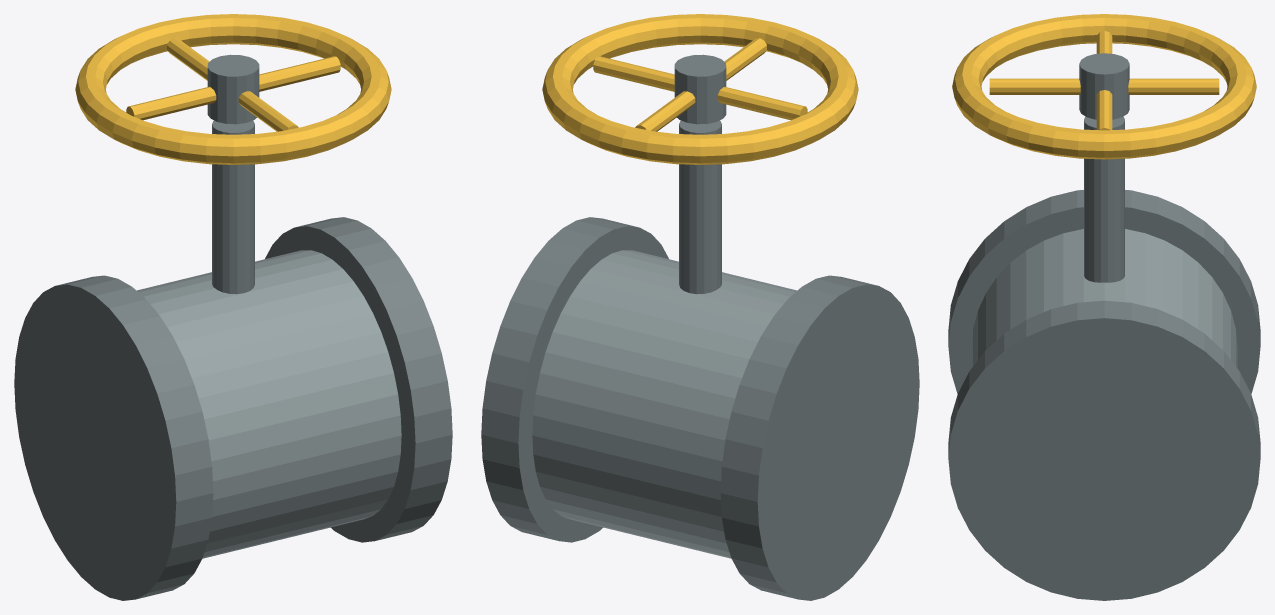
Rendered from PIPE-VALVE-MODULE.glb.
3 renders of one model, left to right at view 1: azimuth 30°, elevation 25°; view 2: azimuth 150°, elevation 25°; view 3: azimuth 270°, elevation 25°, orthographic. The views are drawn at different scales.
Visible parts, largest first — view 1: PIPE-VALVE_BODY, PIPE-VALVE_FLANGE_A, PIPE-VALVE_HANDWHEEL, PIPE-VALVE_FLANGE_B, PIPE-VALVE_STEM, PIPE-VALVE_HANDWHEEL_HUB, PIPE-VALVE_SPOKE_180, PIPE-VALVE_SPOKE_0, PIPE-VALVE_SPOKE_270, PIPE-VALVE_SPOKE_90; view 2: PIPE-VALVE_BODY, PIPE-VALVE_FLANGE_A, PIPE-VALVE_HANDWHEEL, PIPE-VALVE_FLANGE_B, PIPE-VALVE_STEM, PIPE-VALVE_HANDWHEEL_HUB, PIPE-VALVE_SPOKE_180, PIPE-VALVE_SPOKE_0, PIPE-VALVE_SPOKE_90, PIPE-VALVE_SPOKE_270; view 3: PIPE-VALVE_FLANGE_B, PIPE-VALVE_HANDWHEEL, PIPE-VALVE_BODY, PIPE-VALVE_FLANGE_A, PIPE-VALVE_STEM, PIPE-VALVE_HANDWHEEL_HUB, PIPE-VALVE_SPOKE_90, PIPE-VALVE_SPOKE_270, PIPE-VALVE_SPOKE_0.
Boxes of the visible parts, x1=… form: PIPE-VALVE_BODY: x1=136, y1=250, x2=401, y2=558; PIPE-VALVE_FLANGE_A: x1=14, y1=275, x2=213, y2=600; PIPE-VALVE_HANDWHEEL: x1=75, y1=14, x2=391, y2=164; PIPE-VALVE_FLANGE_B: x1=265, y1=217, x2=452, y2=542; PIPE-VALVE_STEM: x1=212, y1=120, x2=254, y2=294; PIPE-VALVE_HANDWHEEL_HUB: x1=207, y1=54, x2=259, y2=124; PIPE-VALVE_SPOKE_180: x1=126, y1=87, x2=216, y2=120; PIPE-VALVE_SPOKE_0: x1=259, y1=56, x2=340, y2=91; PIPE-VALVE_SPOKE_270: x1=238, y1=91, x2=298, y2=131; PIPE-VALVE_SPOKE_90: x1=167, y1=38, x2=209, y2=80; PIPE-VALVE_BODY: x1=532, y1=250, x2=797, y2=558; PIPE-VALVE_FLANGE_A: x1=720, y1=275, x2=919, y2=600; PIPE-VALVE_HANDWHEEL: x1=542, y1=14, x2=858, y2=164; PIPE-VALVE_FLANGE_B: x1=481, y1=217, x2=668, y2=542; PIPE-VALVE_STEM: x1=679, y1=120, x2=721, y2=294; PIPE-VALVE_HANDWHEEL_HUB: x1=674, y1=54, x2=726, y2=124; PIPE-VALVE_SPOKE_180: x1=717, y1=87, x2=807, y2=120; PIPE-VALVE_SPOKE_0: x1=593, y1=56, x2=674, y2=91; PIPE-VALVE_SPOKE_90: x1=635, y1=91, x2=695, y2=131; PIPE-VALVE_SPOKE_270: x1=724, y1=38, x2=766, y2=80; PIPE-VALVE_FLANGE_B: x1=948, y1=300, x2=1260, y2=600; PIPE-VALVE_HANDWHEEL: x1=952, y1=14, x2=1256, y2=159; PIPE-VALVE_BODY: x1=971, y1=229, x2=1237, y2=368; PIPE-VALVE_FLANGE_A: x1=948, y1=190, x2=1260, y2=393; PIPE-VALVE_STEM: x1=1084, y1=116, x2=1124, y2=282; PIPE-VALVE_HANDWHEEL_HUB: x1=1079, y1=53, x2=1129, y2=119; PIPE-VALVE_SPOKE_90: x1=1128, y1=78, x2=1219, y2=94; PIPE-VALVE_SPOKE_270: x1=989, y1=78, x2=1080, y2=94; PIPE-VALVE_SPOKE_0: x1=1096, y1=90, x2=1112, y2=130.
Bounding box in the file's own units: 0.67 × 1.14 × 0.68.
